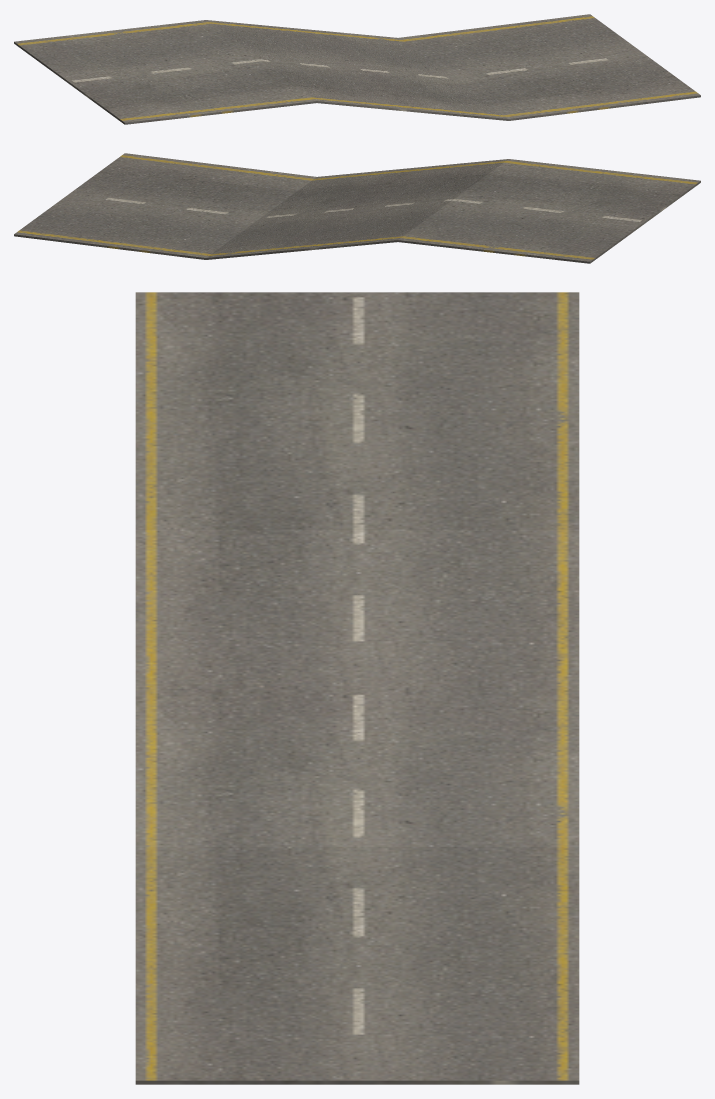
Rendered from Urban_Road1SlopeNoSides_Model.fbx.
The picture shows the model from 3 angles, top to bottom: view 1: azimuth 30°, elevation 25°; view 2: azimuth 150°, elevation 25°; view 3: azimuth 270°, elevation 25°; orthographic projection. The views are drawn at different scales.
Parts seen in each view (by area): view 1: Urban_Road1SlopeNoSides_Mesh; view 2: Urban_Road1SlopeNoSides_Mesh; view 3: Urban_Road1SlopeNoSides_Mesh.
Boxes of the visible parts, <box> form: Urban_Road1SlopeNoSides_Mesh: <box>14,14,700,124</box>; Urban_Road1SlopeNoSides_Mesh: <box>14,153,700,263</box>; Urban_Road1SlopeNoSides_Mesh: <box>135,292,579,1084</box>.
Bounding box in the file's own units: 48 × 9.16 × 16.
